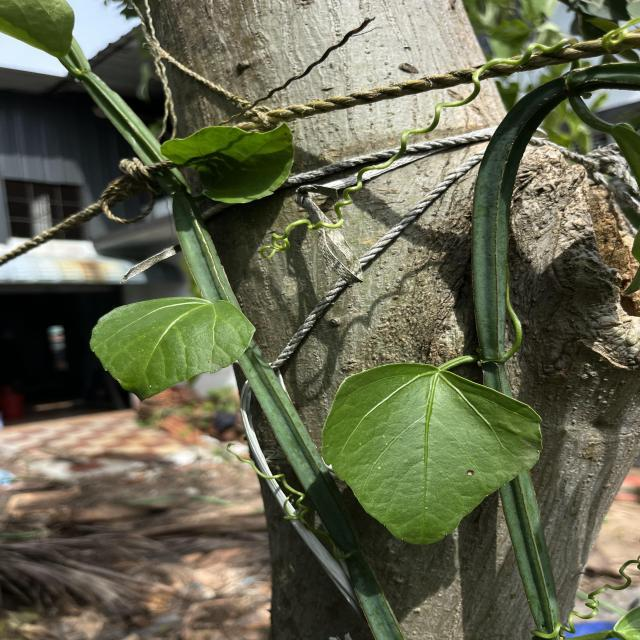Cissus quadrangularis: (318, 359, 546, 546), (86, 294, 259, 404)
